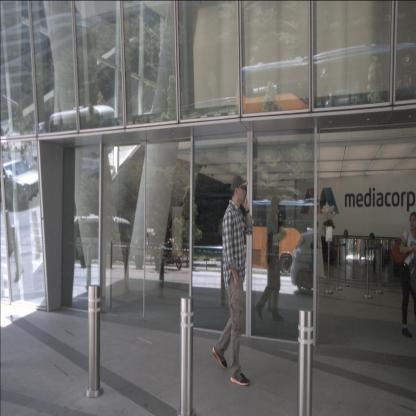human-pedestrian-adult: (212, 175, 250, 386), (256, 196, 286, 322), (398, 211, 416, 340)
vehicle-bus-rigid: (236, 42, 415, 131), (242, 198, 316, 275), (48, 104, 121, 156), (72, 216, 132, 262)
vehicle-car: (0, 158, 41, 201), (290, 231, 317, 295), (325, 88, 365, 113)
vehicle-motorcycle: (148, 232, 182, 272)
